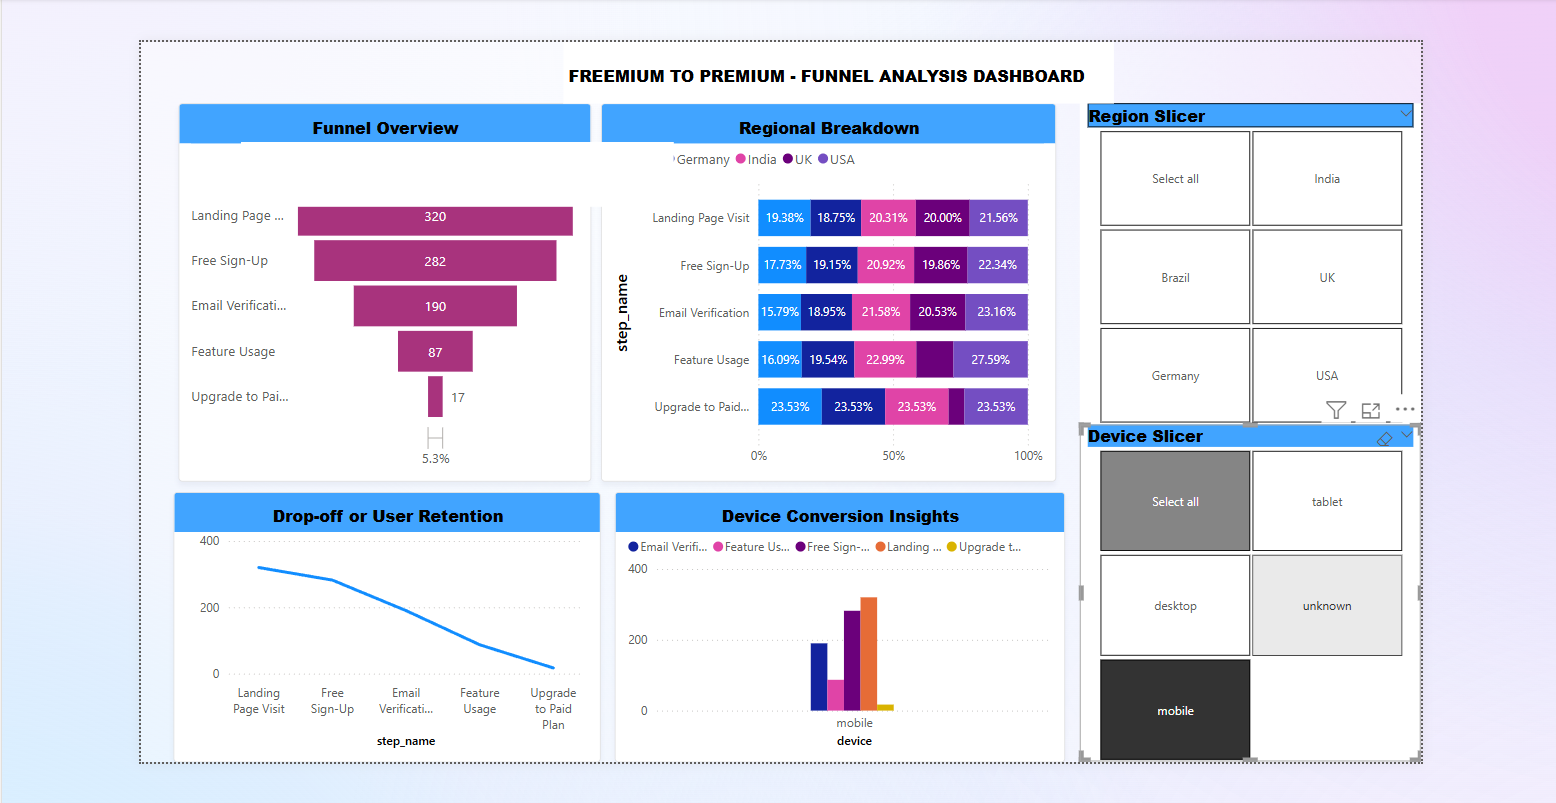

Layout of this report page (visuals, bound fields, positions):
{"tool":"powerbi","page":{"name":"Page 1","canvas":[1280,720],"ordinal":0},"visuals":[{"type":"funnel","title":"Funnel Overview","fields":{"Category":["extended_funnel.step_name","extended_funnel.user_id"],"Y":["CountNonNull(extended_funnel.user_id)"]},"box":[37.5,61.2,412.5,378.8],"z":0},{"type":"lineChart","title":"Drop-off or User Retention","fields":{"Category":["extended_funnel.step_name"],"Y":["CountNonNull(extended_funnel.user_id)"]},"box":[32.5,450,427.5,270],"z":1000},{"type":"hundredPercentStackedBarChart","title":"Regional Breakdown","fields":{"Category":["extended_funnel.step_name"],"Y":["CountNonNull(extended_funnel.user_id)"],"Series":["extended_funnel.region"]},"box":[460,61.2,455,378.8],"z":2000},{"type":"clusteredColumnChart","title":"Device Conversion Insights","fields":{"Category":["extended_funnel.device"],"Y":["CountNonNull(extended_funnel.user_id)"],"Series":["extended_funnel.step_name"]},"box":[473.8,450,450,270],"z":2001},{"type":"slicer","fields":{"Values":["extended_funnel.region"]},"box":[938.8,61.2,341.2,321.2],"z":2002},{"type":"slicer","fields":{"Values":["extended_funnel.device"]},"box":[938.8,382.5,341.2,337.5],"z":2003},{"type":"textbox","box":[422.5,0,550,61.2],"z":2004},{"type":"textbox","box":[100,100,432.5,65],"z":2005}]}

Visuals, with their boxes on the page's 1280x720 design canvas (x1, y1, x2, y2). These are canvas units, not pixel positions in the 1556x803 screenshot, which may show the page scaled, cropped or inside an application window:
"Funnel Overview" funnel: <region>38, 61, 450, 440</region>
"Drop-off or User Retention" lineChart: <region>32, 450, 460, 720</region>
"Regional Breakdown" hundredPercentStackedBarChart: <region>460, 61, 915, 440</region>
"Device Conversion Insights" clusteredColumnChart: <region>474, 450, 924, 720</region>
slicer - extended_funnel.region: <region>939, 61, 1280, 382</region>
slicer - extended_funnel.device: <region>939, 382, 1280, 720</region>
textbox: <region>422, 0, 972, 61</region>
textbox: <region>100, 100, 532, 165</region>
